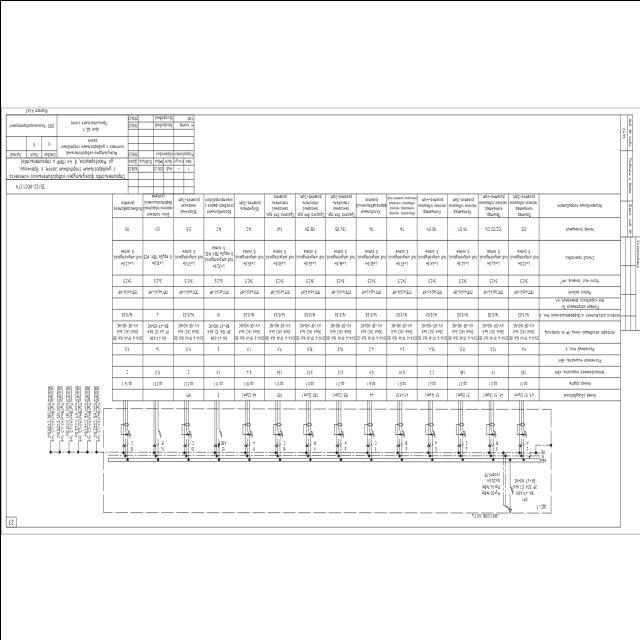-: (384, 321, 416, 342), (142, 321, 174, 342), (415, 321, 447, 342), (506, 321, 538, 342), (172, 321, 204, 342), (292, 321, 324, 342), (232, 320, 264, 341), (324, 321, 356, 342), (110, 321, 142, 342), (446, 320, 478, 341), (476, 321, 508, 342), (354, 321, 386, 342), (202, 321, 234, 342), (262, 320, 294, 340), (512, 475, 536, 495), (219, 440, 227, 450), (342, 438, 347, 451), (372, 438, 377, 451), (536, 503, 546, 509), (432, 439, 437, 451), (493, 439, 498, 451), (463, 438, 467, 451), (281, 439, 285, 452), (160, 439, 164, 452), (190, 439, 194, 451), (251, 439, 255, 451), (404, 439, 408, 451), (312, 439, 316, 451), (128, 439, 132, 451), (524, 439, 528, 451)
QF: (508, 484, 513, 496), (156, 428, 161, 440), (217, 428, 222, 440)
QFD: (118, 421, 130, 439), (180, 422, 192, 440), (484, 422, 496, 440), (454, 422, 466, 440), (393, 422, 405, 440), (363, 422, 375, 440), (240, 422, 252, 440), (302, 421, 314, 439), (271, 421, 283, 439), (515, 422, 527, 440), (424, 422, 436, 439), (332, 422, 344, 439)
